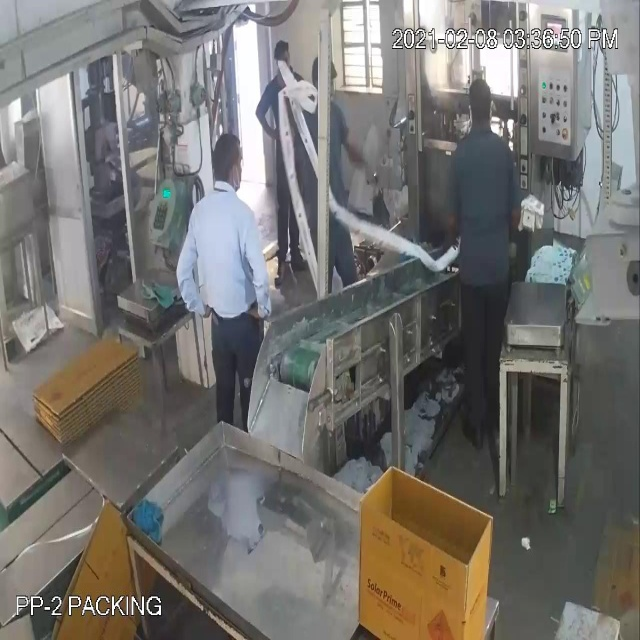Sin_guantes: (240, 213, 278, 335), (176, 221, 211, 335)
